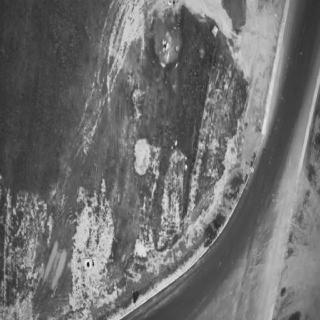Fire: (158, 40, 168, 53)
